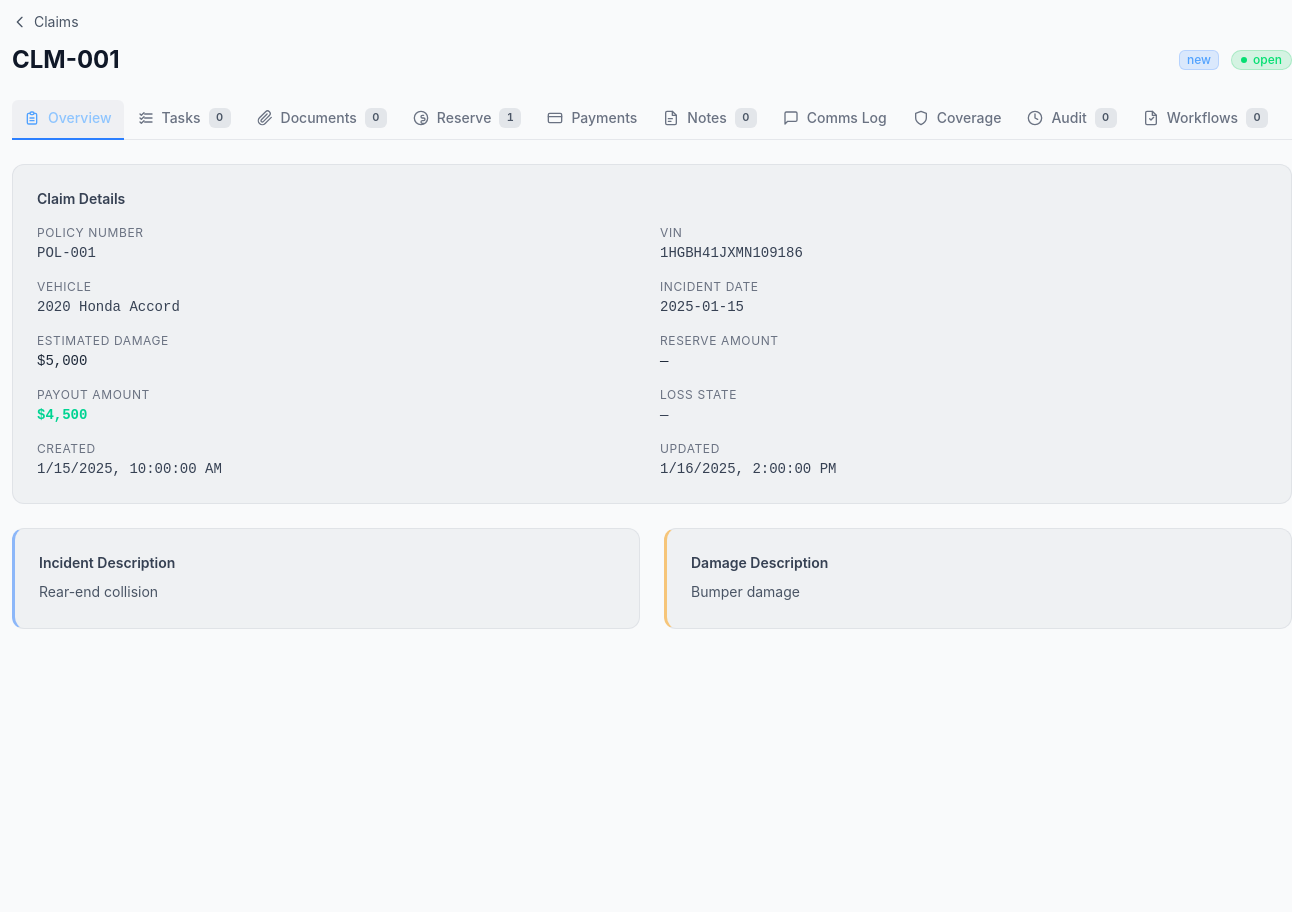
Test case: ClaimDetail › shows reserve history when present
The width and height of the screenshot is (1292, 912).
Click the tab "Reserve 1" at (467, 120), box [401,100,533,140]
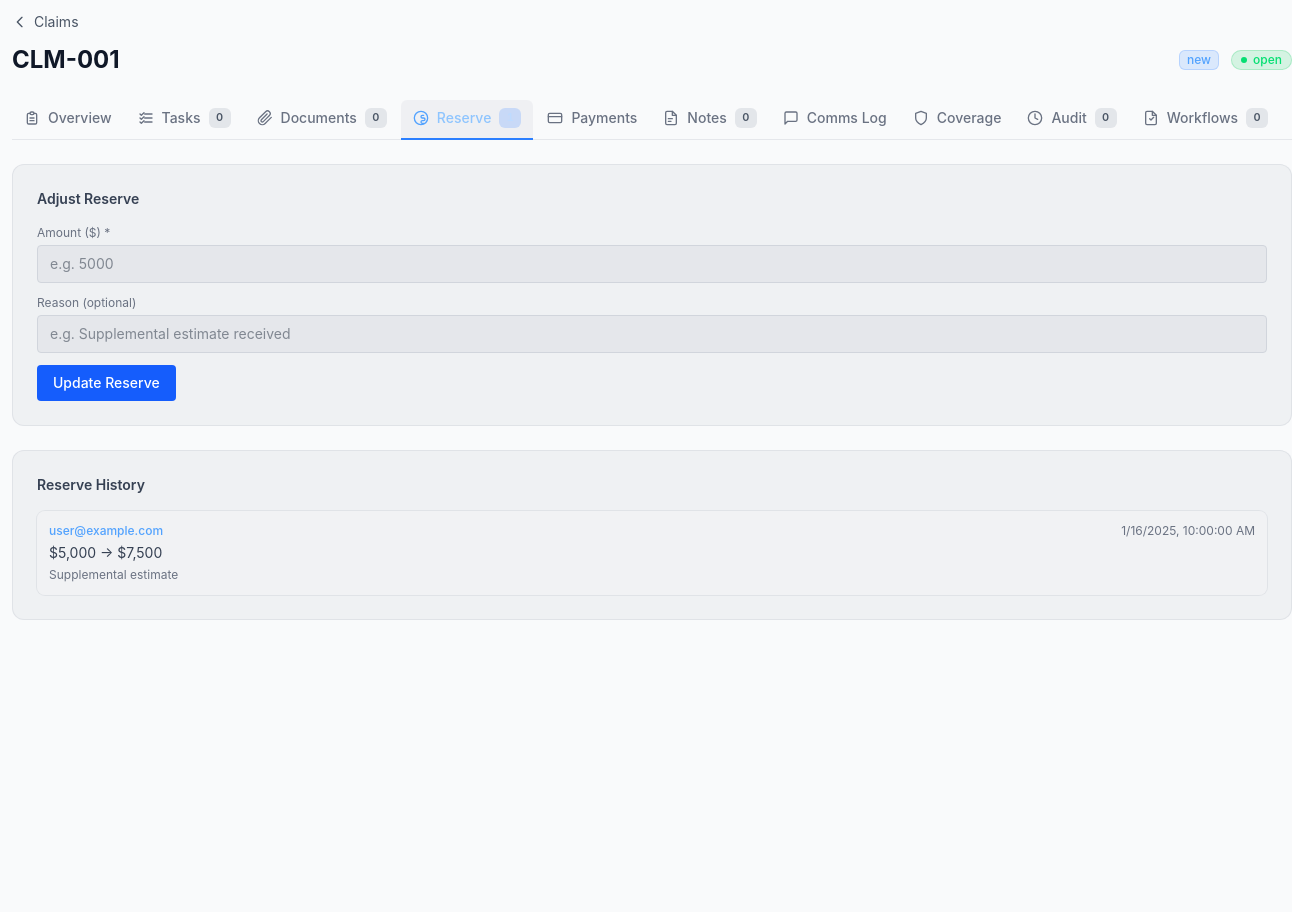
Now the text "Supplemental estimate" is shown, box [49,567,178,582]
Now the text "user@example.com" is shown, box [49,523,163,539]
